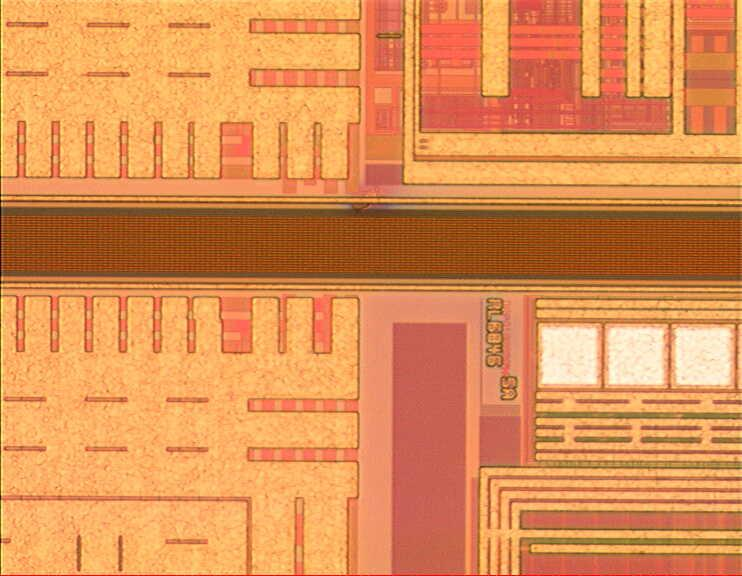BLOCK ETCH: (339, 165, 399, 225)
